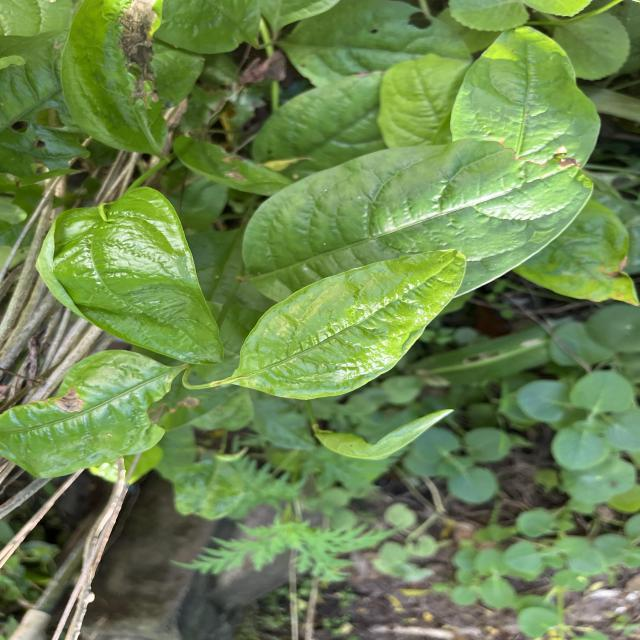Plumbago indica: (227, 138, 598, 298), (229, 241, 481, 405), (32, 186, 212, 367), (0, 347, 191, 482)
